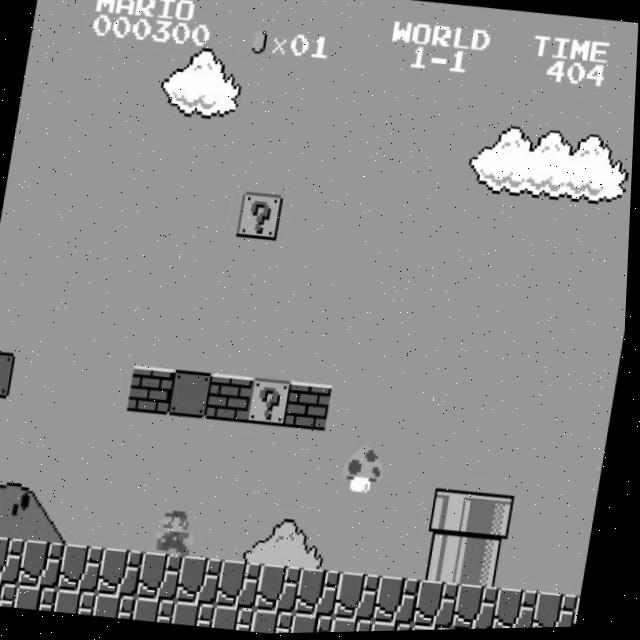1- brick_block: (209, 373, 257, 425), (130, 365, 178, 416), (288, 381, 335, 433)
11- little_mario: (152, 506, 203, 560)
12- mushroom: (340, 442, 391, 497)
13- mystery_block: (248, 377, 296, 429), (237, 191, 285, 242)
14- pipe: (425, 534, 473, 586), (464, 539, 512, 591)
15- pipe_head: (432, 489, 480, 541), (471, 493, 519, 545)
17- undestructible_block: (22, 538, 70, 590), (141, 551, 189, 603), (180, 555, 228, 607), (259, 563, 307, 615), (338, 572, 386, 624), (378, 576, 426, 628), (417, 580, 465, 632), (101, 547, 149, 598), (62, 542, 109, 594), (220, 559, 267, 611), (299, 568, 346, 619), (457, 584, 504, 632), (497, 588, 544, 631), (537, 592, 584, 630), (0, 534, 30, 586), (58, 588, 102, 617), (98, 592, 142, 621), (137, 596, 181, 625), (177, 600, 221, 629), (19, 584, 63, 612), (216, 605, 260, 633), (256, 608, 300, 635), (296, 613, 339, 634), (335, 617, 378, 634), (0, 579, 23, 608), (375, 621, 418, 633), (576, 597, 586, 630), (415, 626, 458, 632)
3- empty_block: (169, 369, 217, 421), (0, 348, 18, 399)
